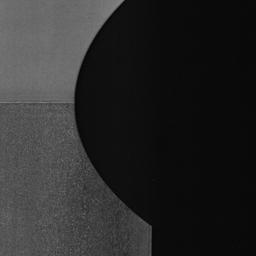Crescent gap: (74, 0, 150, 225)
